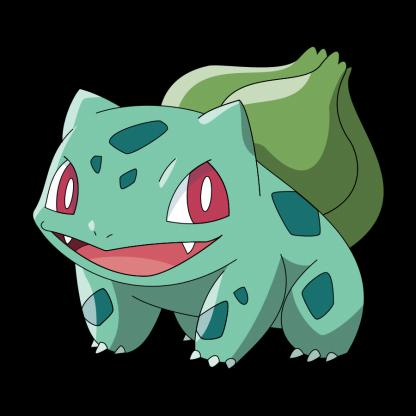Bulbasaur: (32, 50, 396, 368)
